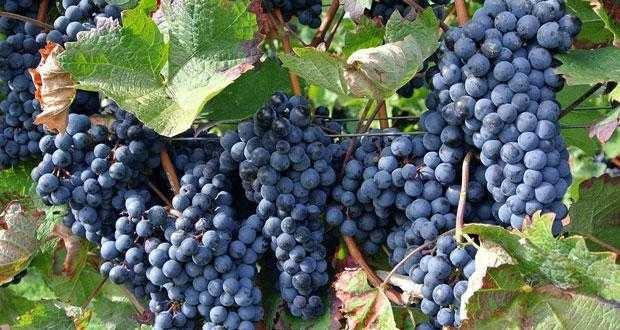Grape Ripe: (455, 0, 570, 222), (239, 104, 344, 317), (110, 192, 264, 329), (341, 137, 453, 265), (37, 114, 150, 240), (415, 109, 504, 259), (149, 151, 239, 267), (413, 222, 489, 318), (0, 0, 43, 151)
